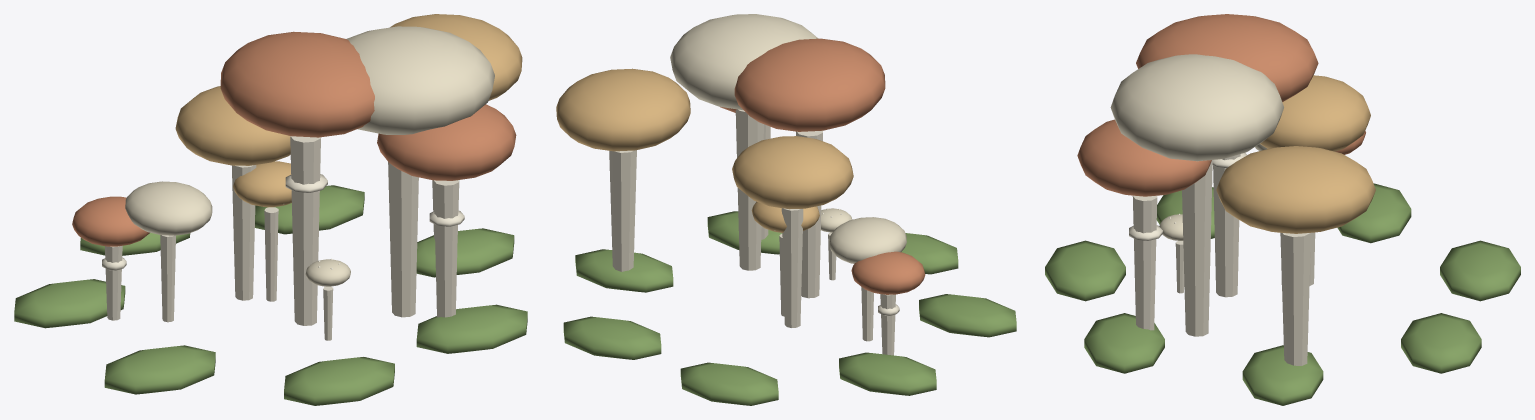
The model's file is mushroom_cluster_spring.glb.
3 views of the same model, side by side, from view 1: azimuth 30°, elevation 25°; view 2: azimuth 150°, elevation 25°; view 3: azimuth 270°, elevation 25° (orthographic). The views are drawn at different scales.
Visible parts, largest first — view 1: mushroom_cluster_spring; view 2: mushroom_cluster_spring; view 3: mushroom_cluster_spring.
Part boxes in pixels (x1,y1,x2,y2): mushroom_cluster_spring: (14, 14, 527, 405); mushroom_cluster_spring: (556, 14, 1016, 405); mushroom_cluster_spring: (1045, 14, 1520, 405).
Bounding box in the file's own units: 1.57 × 0.9307 × 1.46.
